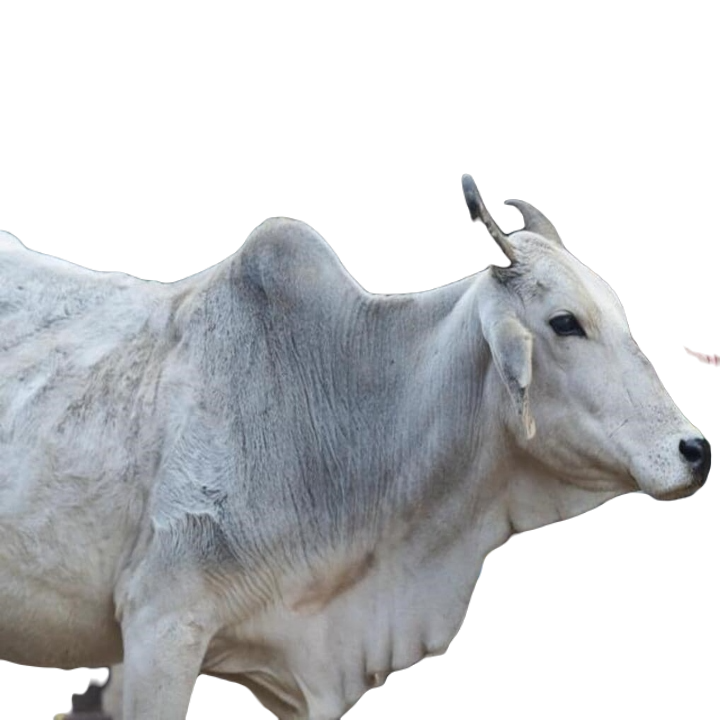Cow: (0, 176, 709, 714)
